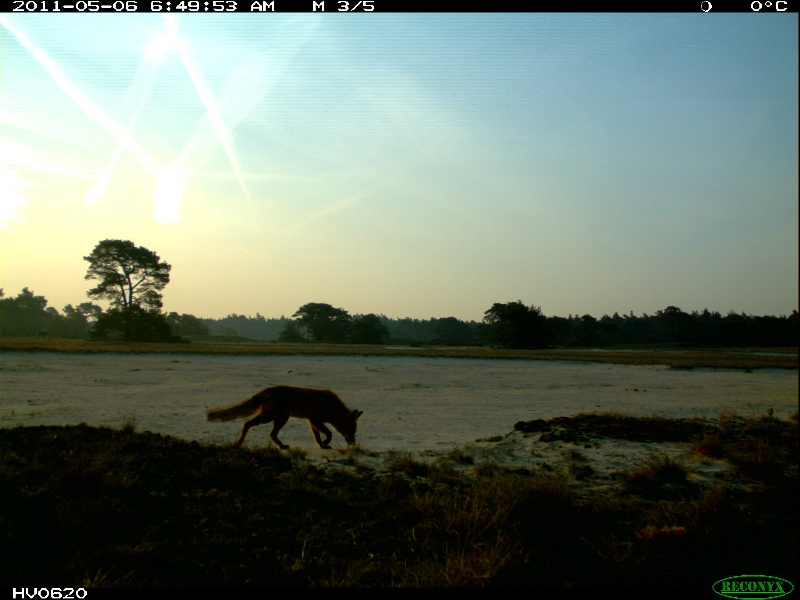fox: (197, 384, 368, 451)
